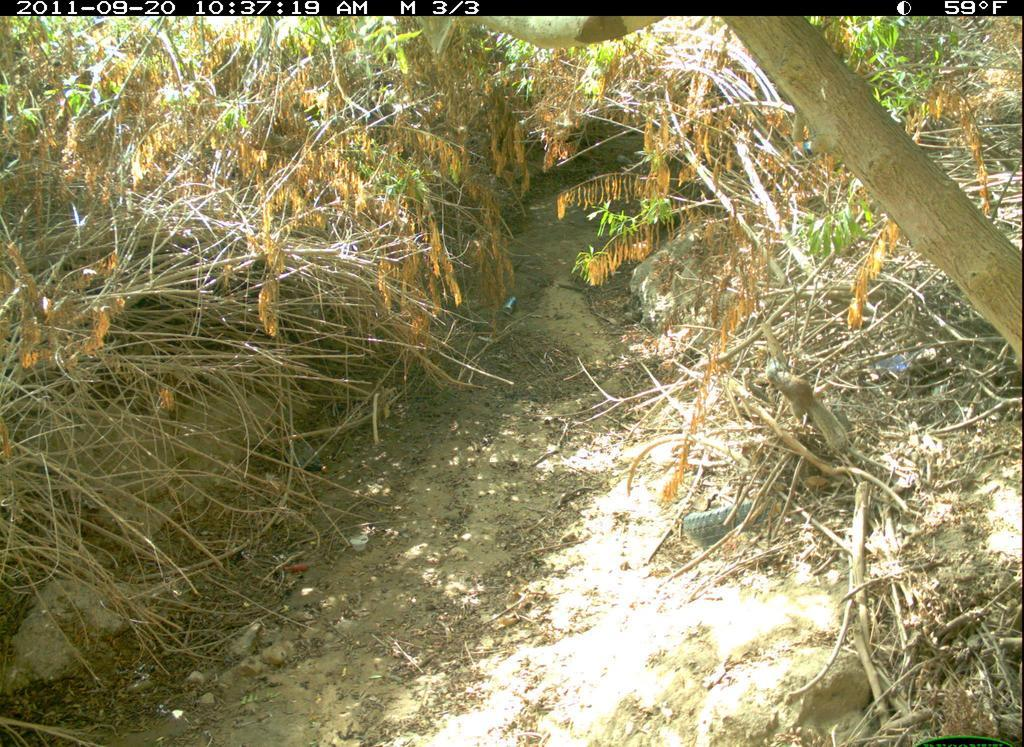squirrel: (758, 356, 858, 470)
